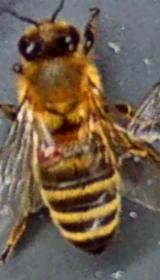varroa_mite: (36, 132, 66, 168)
